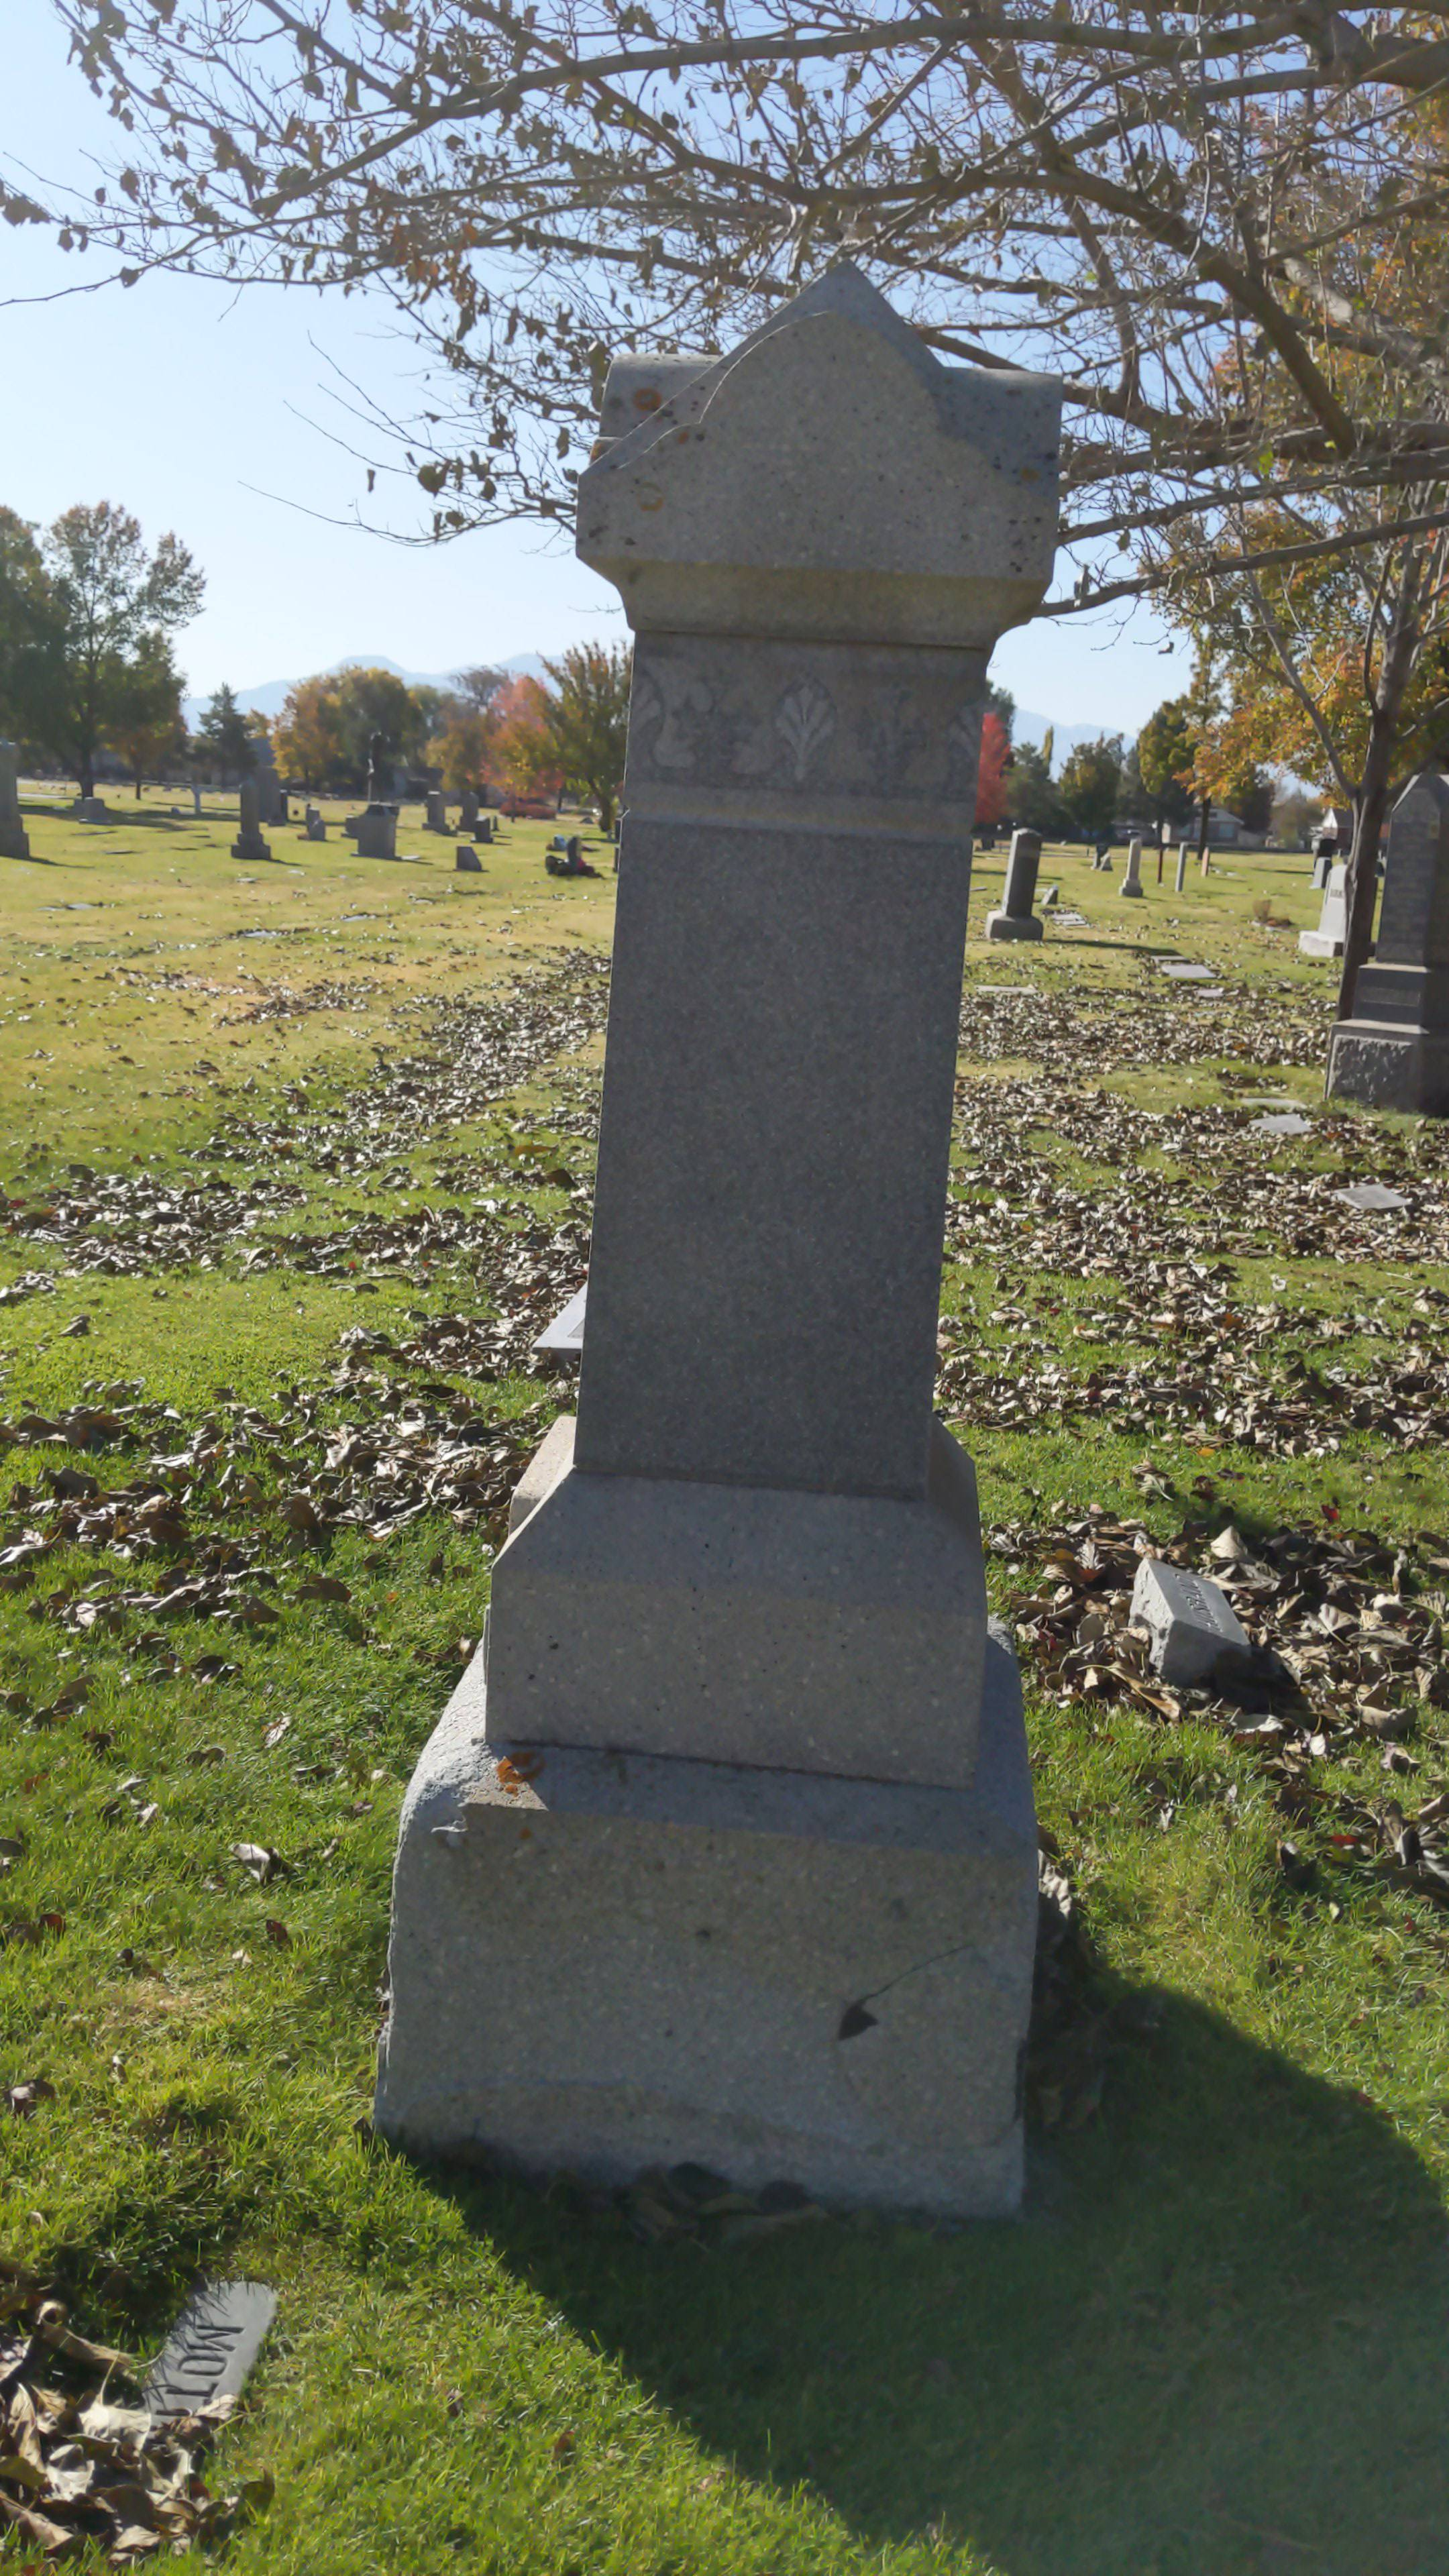obelisk: (490, 262, 1049, 1775)
